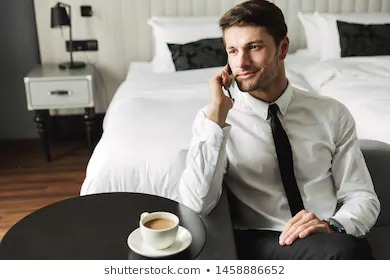F_shirt: (173, 82, 382, 236)
F_tie: (262, 105, 307, 216)
